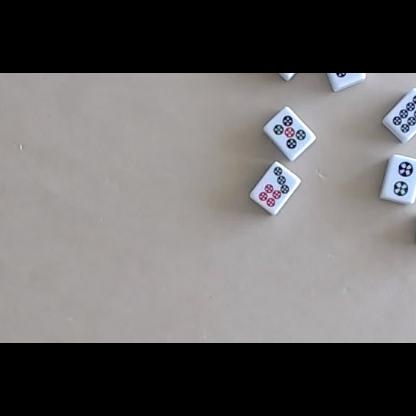2p: (393, 160, 415, 196)
4p: (329, 73, 358, 78)
5p: (273, 114, 307, 150)
7p: (257, 165, 290, 207)
8p: (391, 93, 416, 133)
